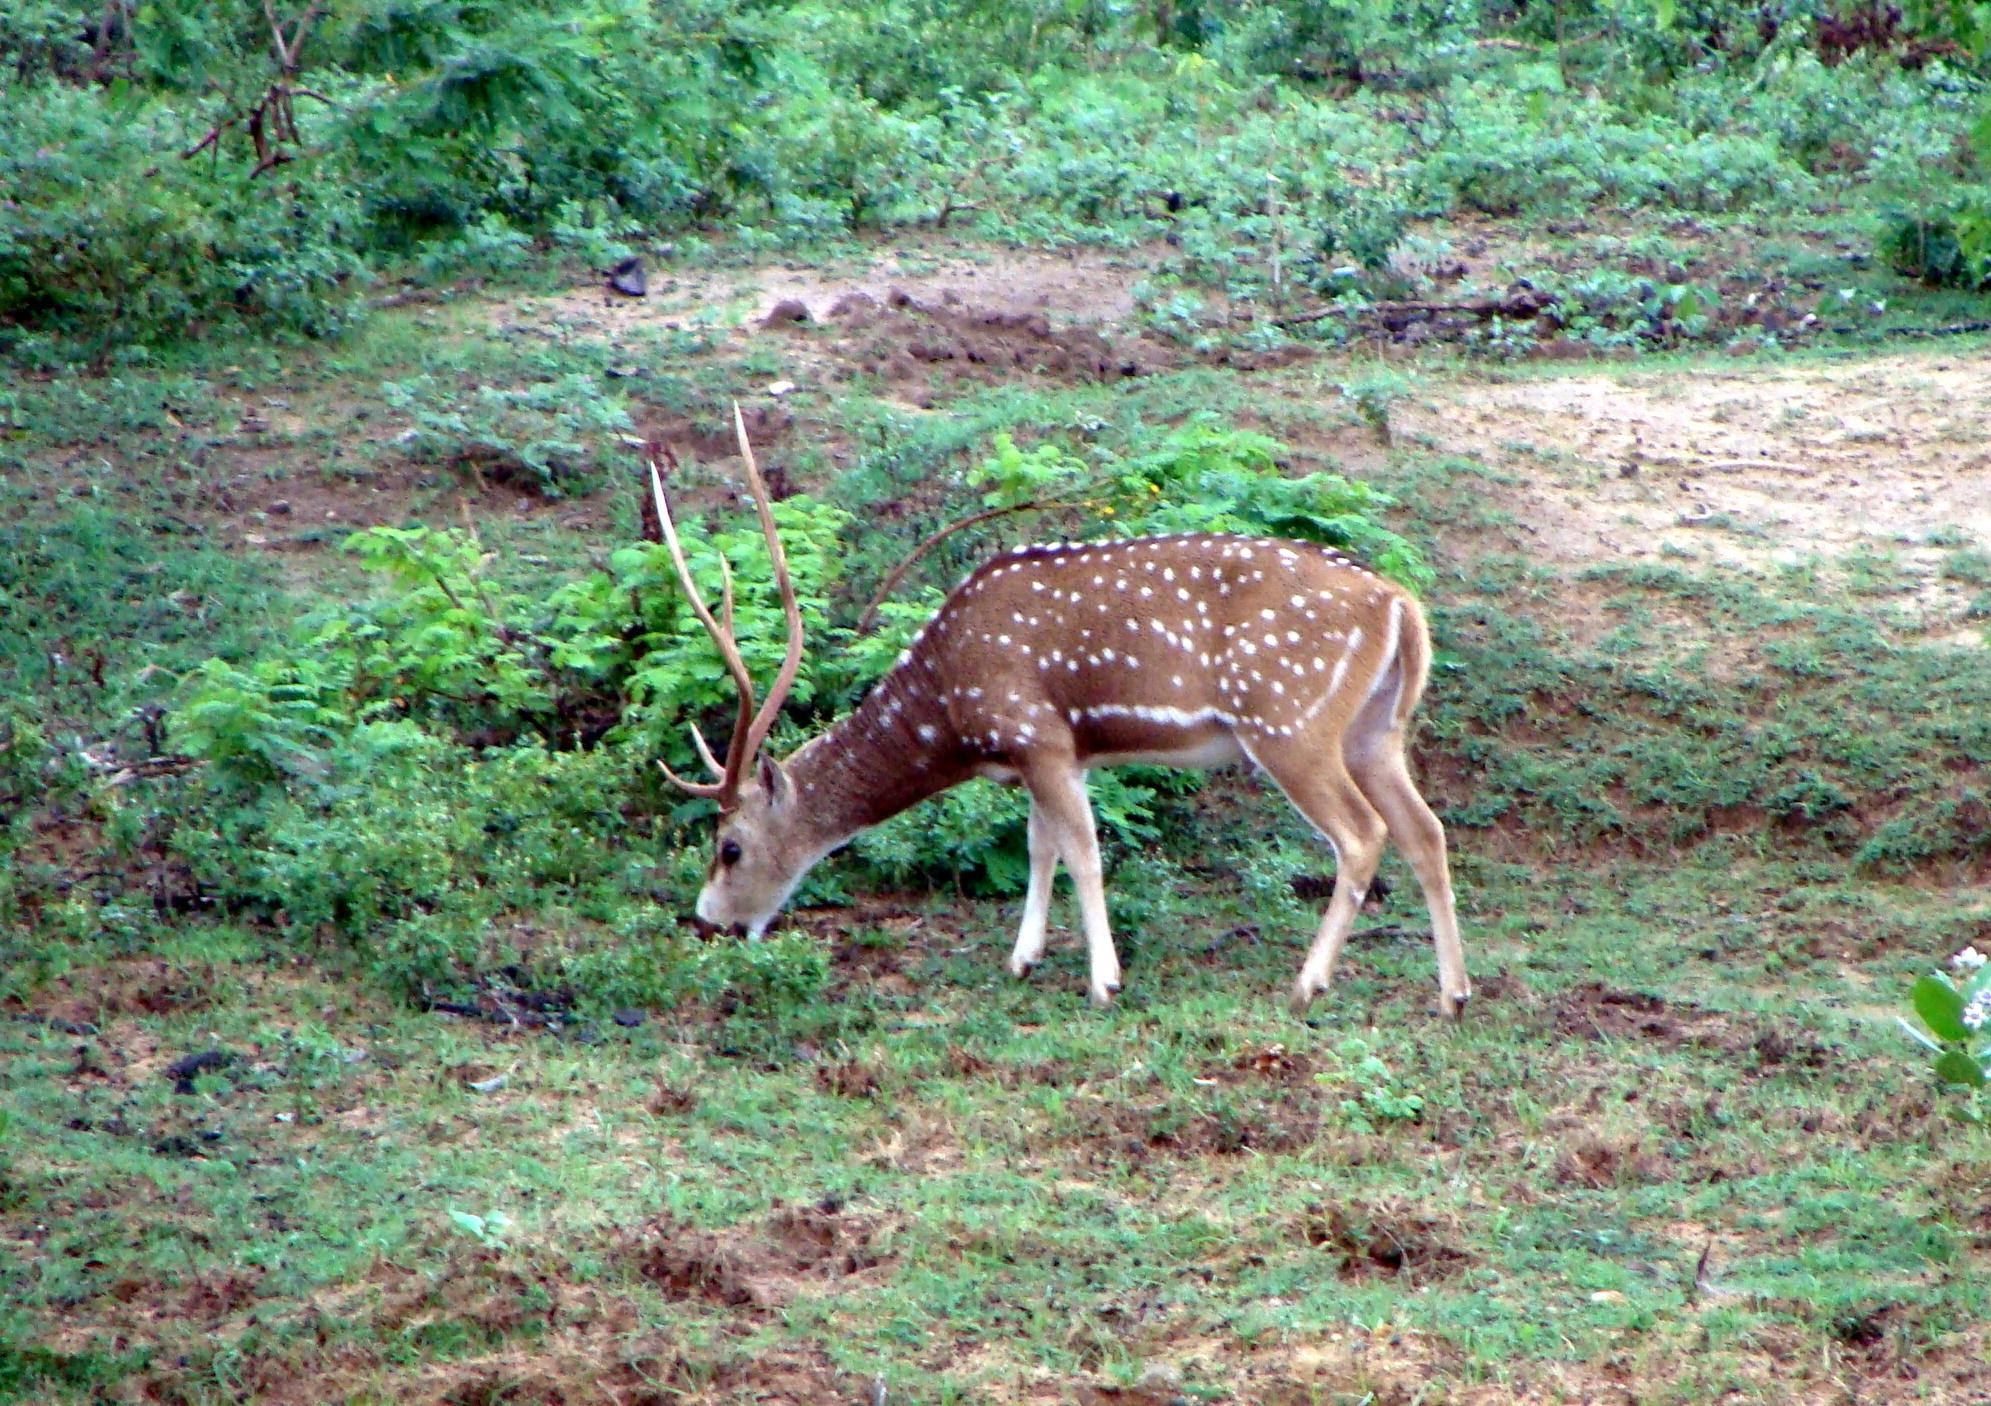Deer: (663, 447, 1469, 1013)
